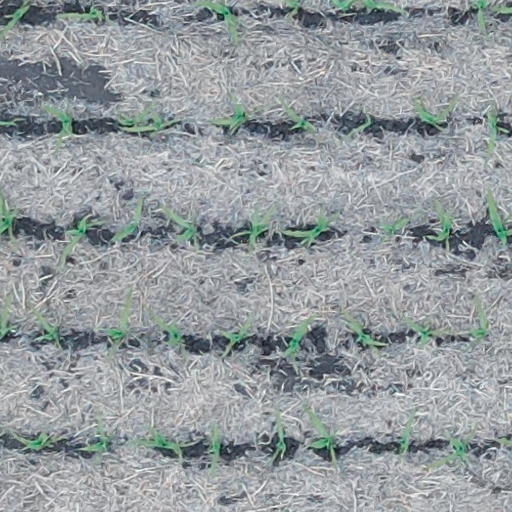planta: (56, 211, 109, 266), (93, 286, 134, 353), (301, 402, 340, 471), (278, 208, 339, 249), (279, 312, 318, 376), (339, 308, 388, 358), (427, 423, 479, 470), (125, 422, 186, 461), (231, 201, 277, 252), (143, 304, 188, 356), (73, 412, 111, 467), (106, 194, 146, 245), (205, 90, 251, 134), (38, 100, 76, 153), (116, 105, 183, 135), (216, 309, 256, 358), (411, 94, 460, 131), (401, 312, 450, 349), (29, 305, 65, 355), (461, 295, 491, 354), (159, 203, 200, 246), (276, 93, 317, 134), (421, 197, 455, 245), (263, 405, 288, 466), (52, 1, 111, 24), (10, 427, 61, 452), (395, 405, 419, 458), (203, 418, 224, 477), (114, 100, 160, 126), (343, 111, 375, 138), (375, 213, 412, 235)
